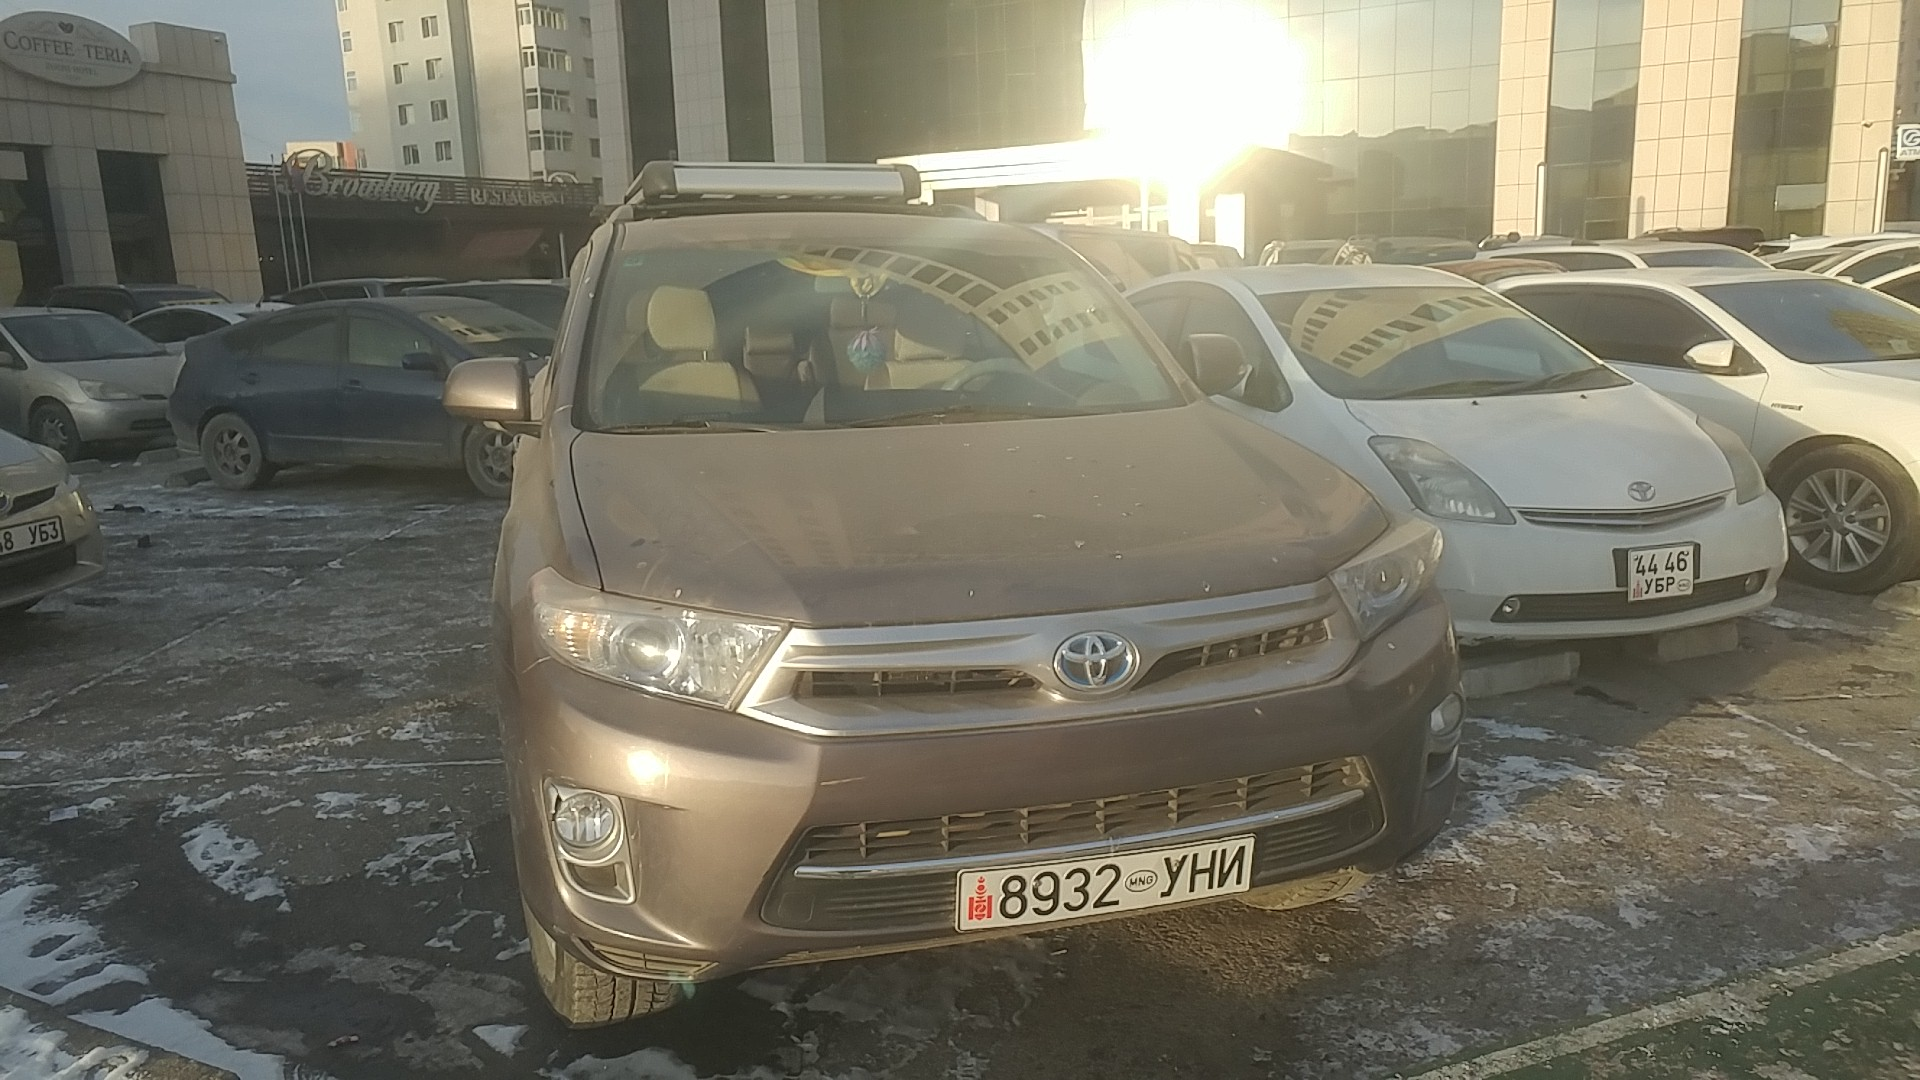2: (1092, 862, 1123, 908)
3: (1062, 864, 1092, 913)
4: (1635, 554, 1647, 576), (1648, 553, 1659, 574), (1665, 552, 1675, 573)
6: (1676, 550, 1688, 572)
8: (998, 875, 1029, 919)
9: (1031, 869, 1060, 917)
b: (1655, 577, 1665, 594)
i: (1216, 845, 1247, 889)
n: (1188, 849, 1217, 893)
plate: (954, 832, 1256, 938), (1626, 542, 1699, 603)
r: (1666, 576, 1675, 592)
u: (1158, 851, 1188, 899), (1644, 577, 1653, 594)
